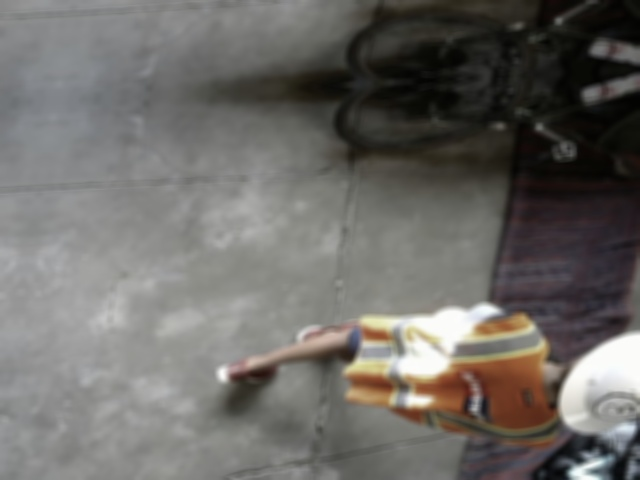three: (591, 391, 639, 420)
